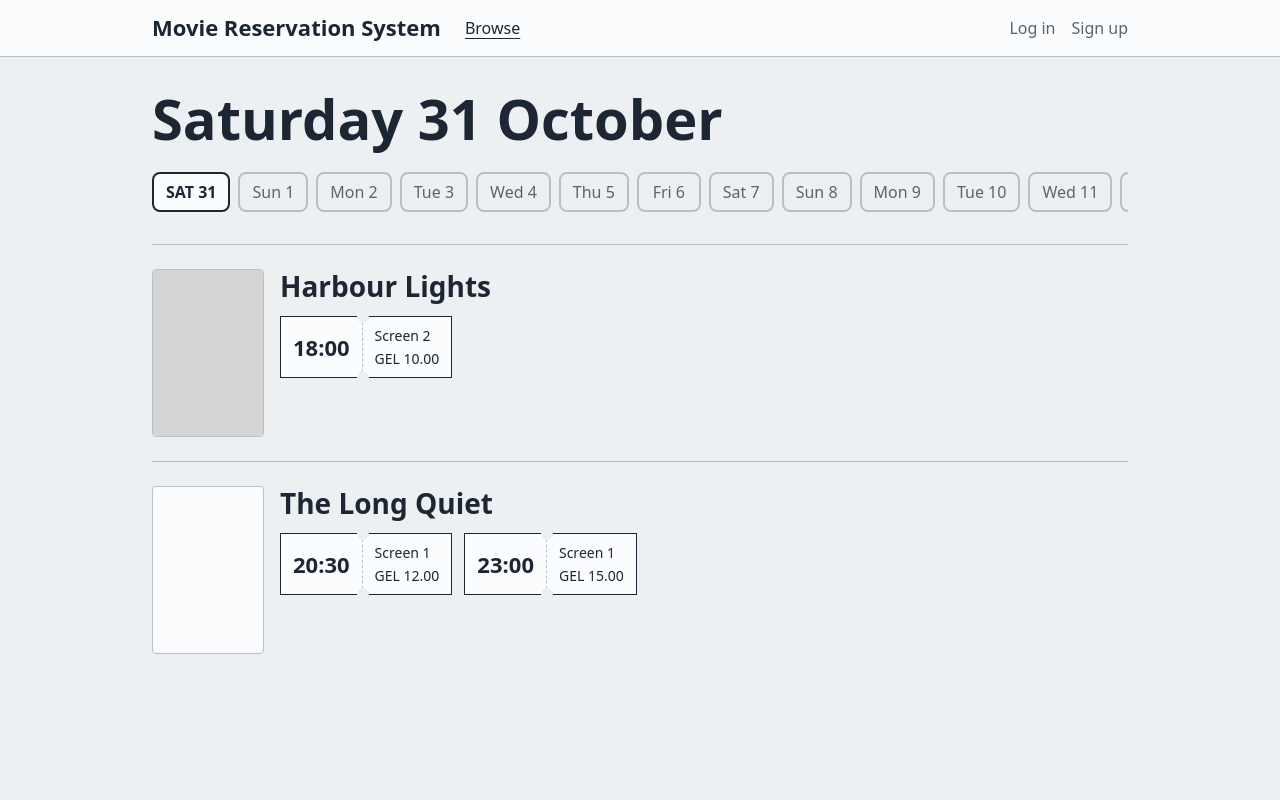
Test: browse › browse_shows_showtimes_for_selected_date_grouped_by_movie
expect the heading "Saturday 31 October" is shown: met, box [152,80,723,156]
expect the text "20:30" is shown: met, box [293,549,350,579]
Click the link "Sun 1": (273, 192) [238,172,308,212]
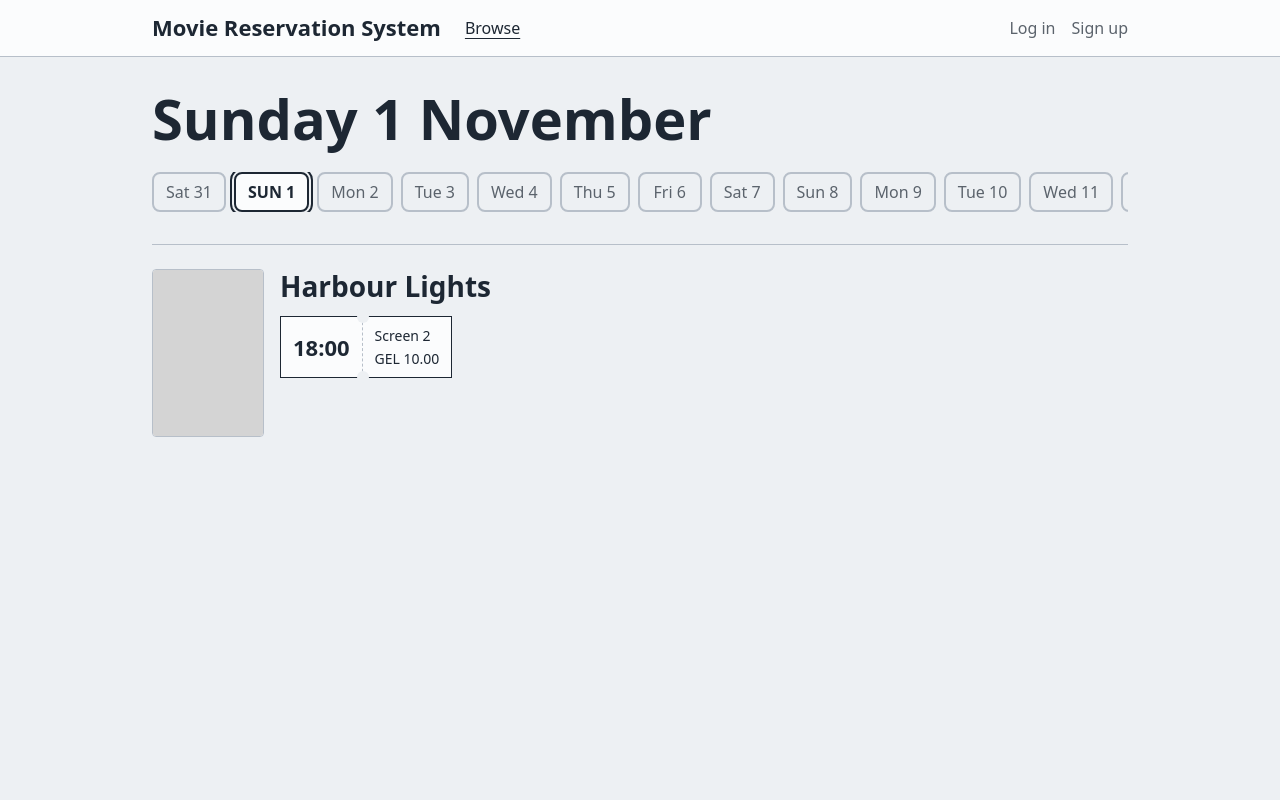
expect the element "Harbour Lights" is shown: met, box [152,267,491,437]
expect the link "The Long Quiet" is gone: met
